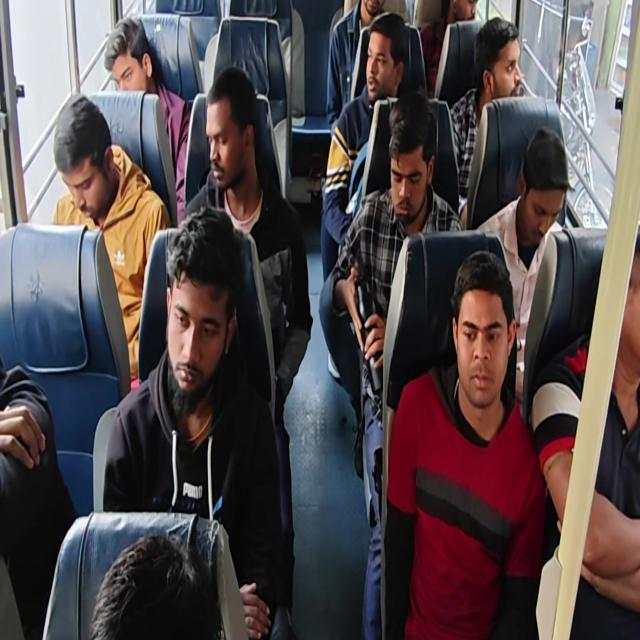person: (2, 1, 638, 638), (319, 90, 464, 638), (101, 205, 284, 638), (183, 65, 313, 617), (381, 249, 546, 638), (530, 226, 639, 638), (52, 94, 171, 384), (475, 125, 572, 408), (320, 12, 410, 280), (0, 354, 76, 638), (103, 16, 191, 226), (449, 16, 523, 222), (89, 532, 222, 639), (326, 0, 386, 128), (419, 0, 479, 98)
